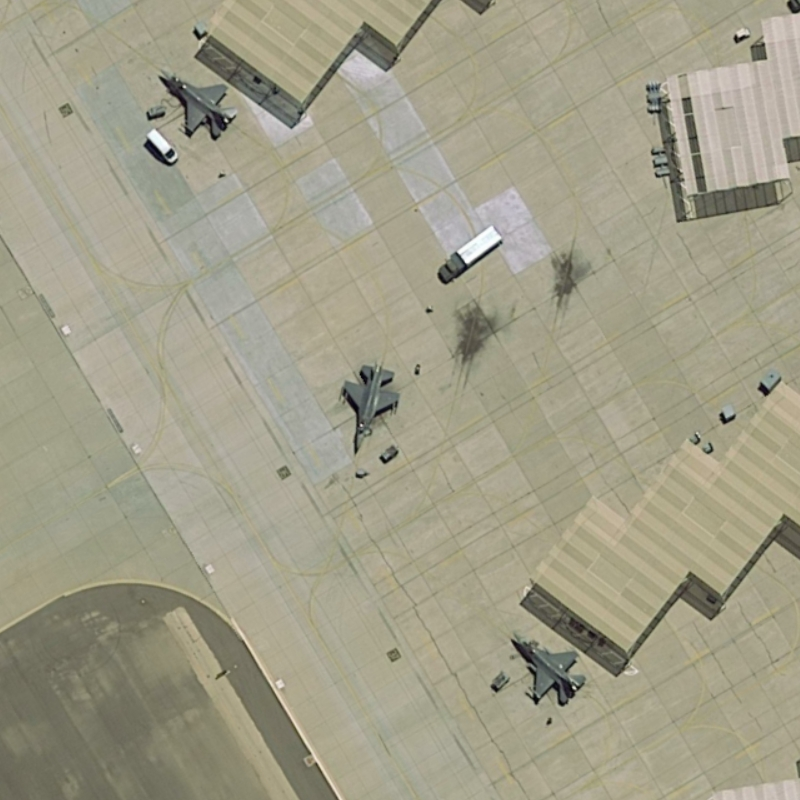A5: (507, 626, 591, 708), (335, 357, 404, 455), (155, 65, 241, 142)
